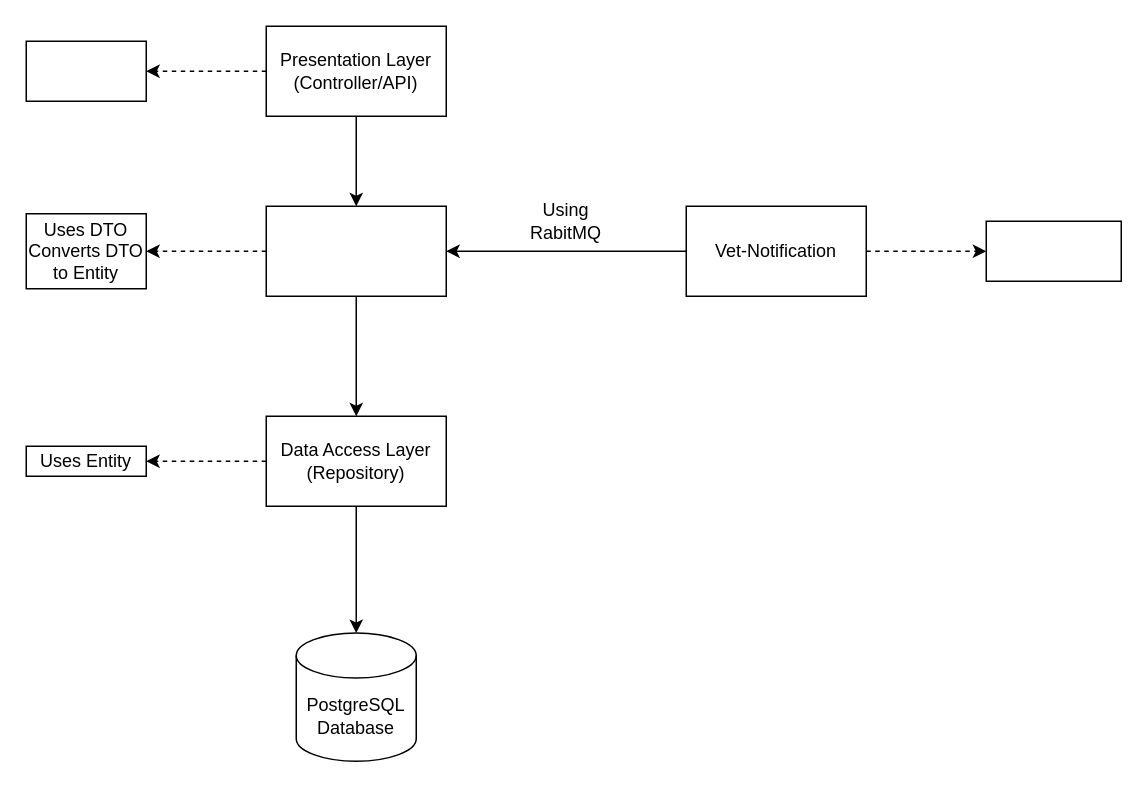
The diagram is 1148 pixels wide and 788 high, and some of its shapes have lost their labels. The shapes that lost their labels are listed below. From the top down, each one's centre as x and y in pixels, then its label:
(85,70): Receives and forwards DTO
(355,250): Bussiness Logic Layer (Service)
(1053,250): Prints received messages
